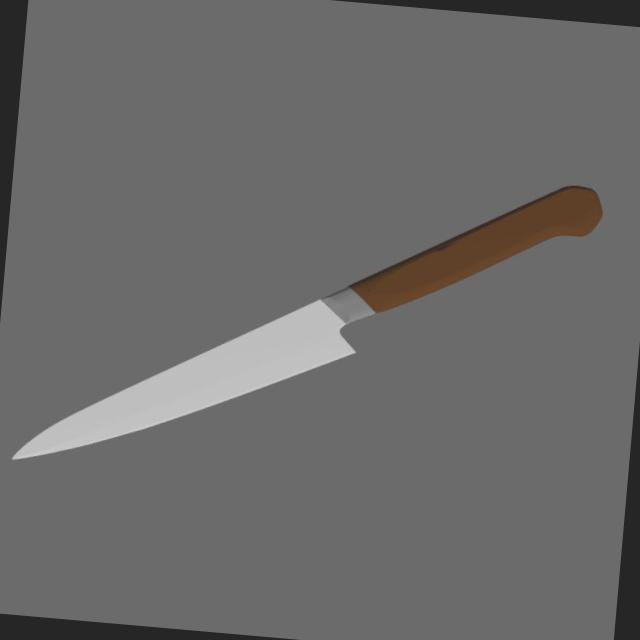knife: (342, 165, 604, 332)
